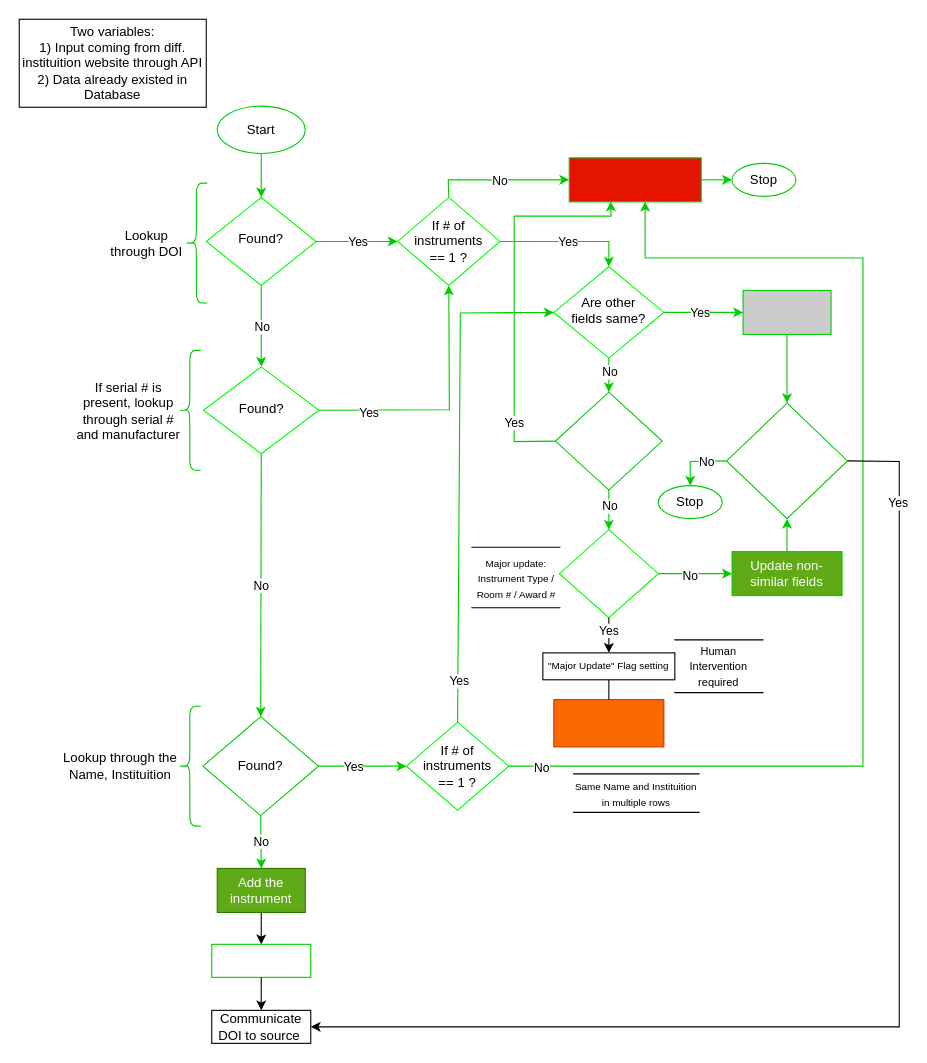
Some shapes in this 927 by 1063 pixel diagram are drawn without their labels. Here are the shapes that lost their labels. From the top down, the box of each, then its label:
(568, 157, 701, 202): Raise Error (Duplicate or Conflict)
(742, 289, 831, 334): Do Nothing
(554, 391, 662, 490): Conflicting Serial # / DOI
(725, 402, 848, 519): Is DOI not in the source but in the server?
(558, 529, 658, 618): Major Update?
(553, 698, 664, 747): Create new version of instrument
(211, 943, 311, 977): Register the DOI
